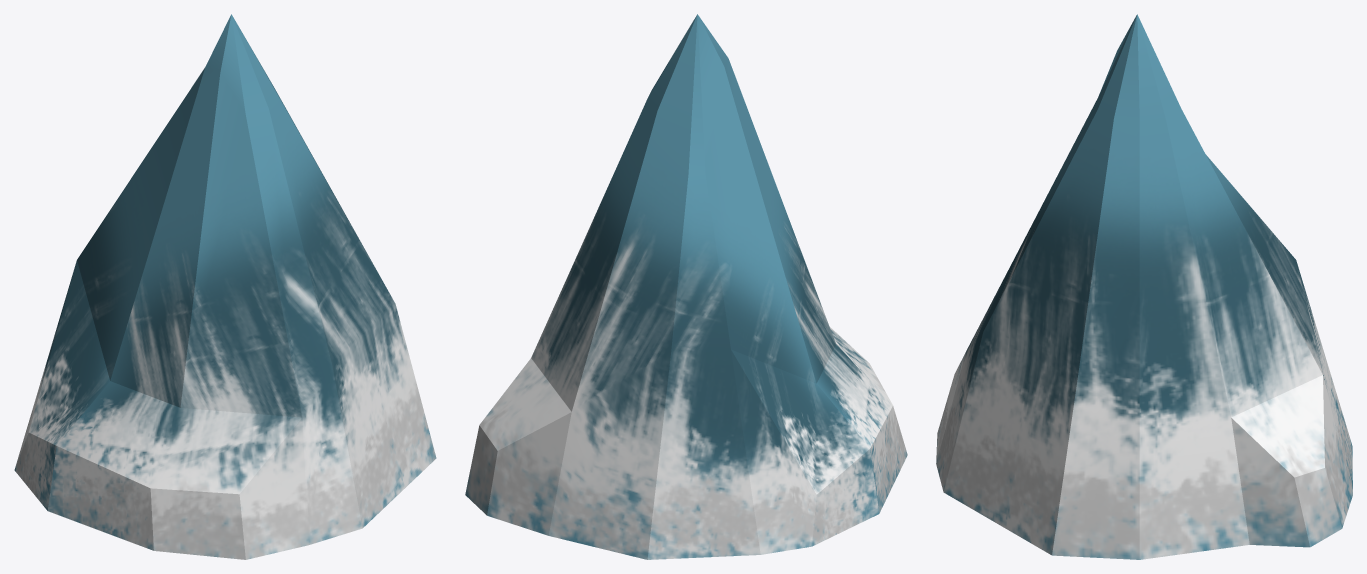
The model's file is ms_iceShape06.fbx.
The picture shows the model from 3 angles, left to right: view 1: azimuth 30°, elevation 25°; view 2: azimuth 150°, elevation 25°; view 3: azimuth 270°, elevation 25°; orthographic projection.
Parts seen in each view (by area): view 1: polySurface3; view 2: polySurface3; view 3: polySurface3.
Boxes of the visible parts, <box> form: polySurface3: <box>14,14,436,559</box>; polySurface3: <box>465,14,907,559</box>; polySurface3: <box>936,14,1352,559</box>.
Bounding box in the file's own units: 370 × 452 × 370.
